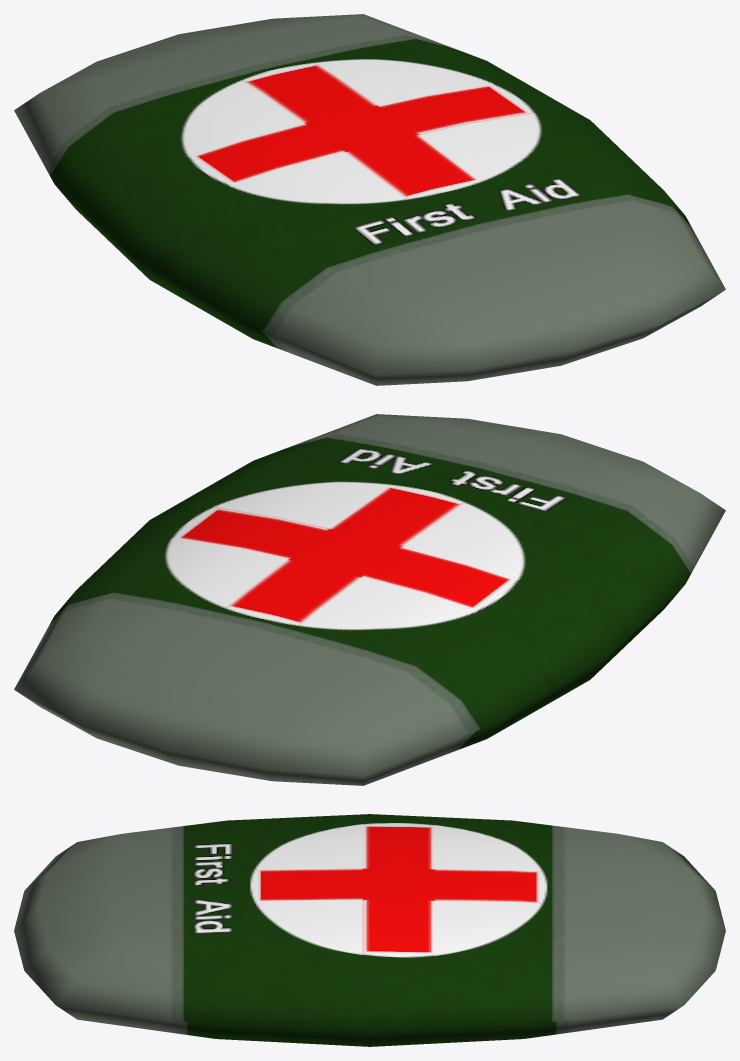
The model's file is FirstAid_Good.obj.
3 views of the same model, one above another, from view 1: azimuth 30°, elevation 25°; view 2: azimuth 150°, elevation 25°; view 3: azimuth 270°, elevation 25° (orthographic). The views are drawn at different scales.
Visible parts, largest first — view 1: polySurface1; view 2: polySurface1; view 3: polySurface1.
Boxes of the visible parts, x1,y1,x2,y2 form: polySurface1: (14,14,725,385); polySurface1: (14,414,725,785); polySurface1: (14,814,725,1046).
Size of the model in its own units: 2.16 by 0.5402 by 3.25.
Materials: 1 (1 with a texture image).
